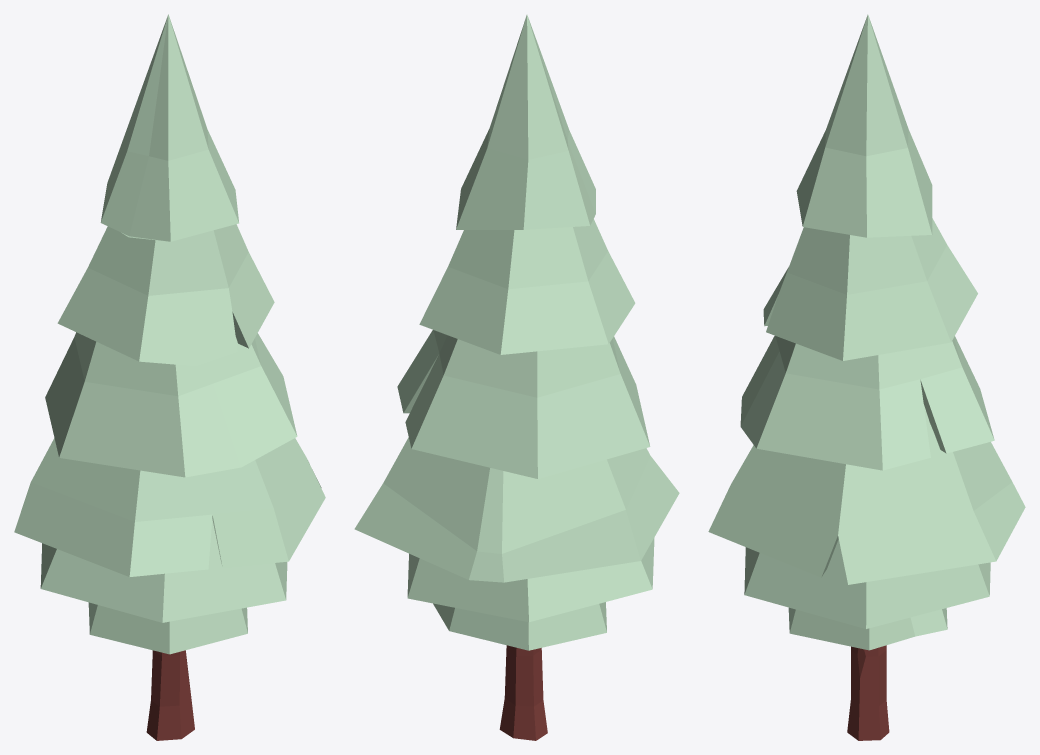
Rendered from Spruce_L_flat.glb.
3 renders of one model, left to right at view 1: azimuth 30°, elevation 25°; view 2: azimuth 150°, elevation 25°; view 3: azimuth 270°, elevation 25°, orthographic.
Parts seen in each view (by area): view 1: Spruce big f; view 2: Spruce big f; view 3: Spruce big f.
Part boxes in pixels (x1=…): Spruce big f: x1=14, y1=14, x2=325, y2=740; Spruce big f: x1=354, y1=14, x2=679, y2=740; Spruce big f: x1=708, y1=14, x2=1025, y2=740.
Size of the model in its own units: 6.8 by 16.86 by 6.75.
